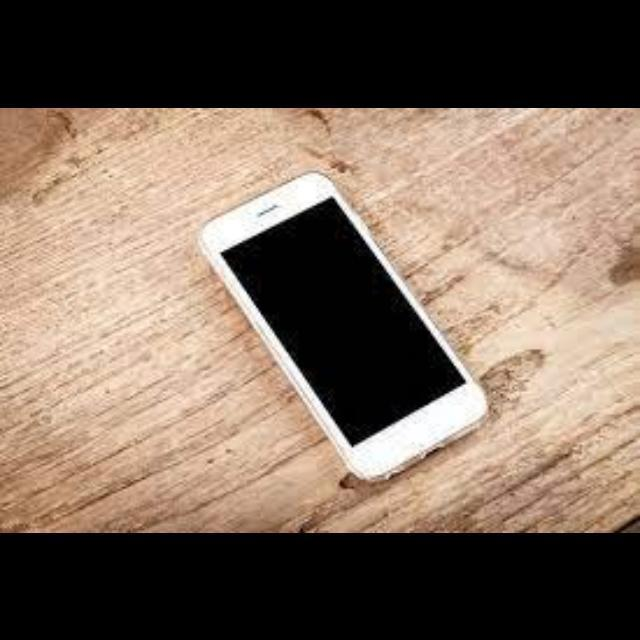phone: (219, 190, 475, 444)
